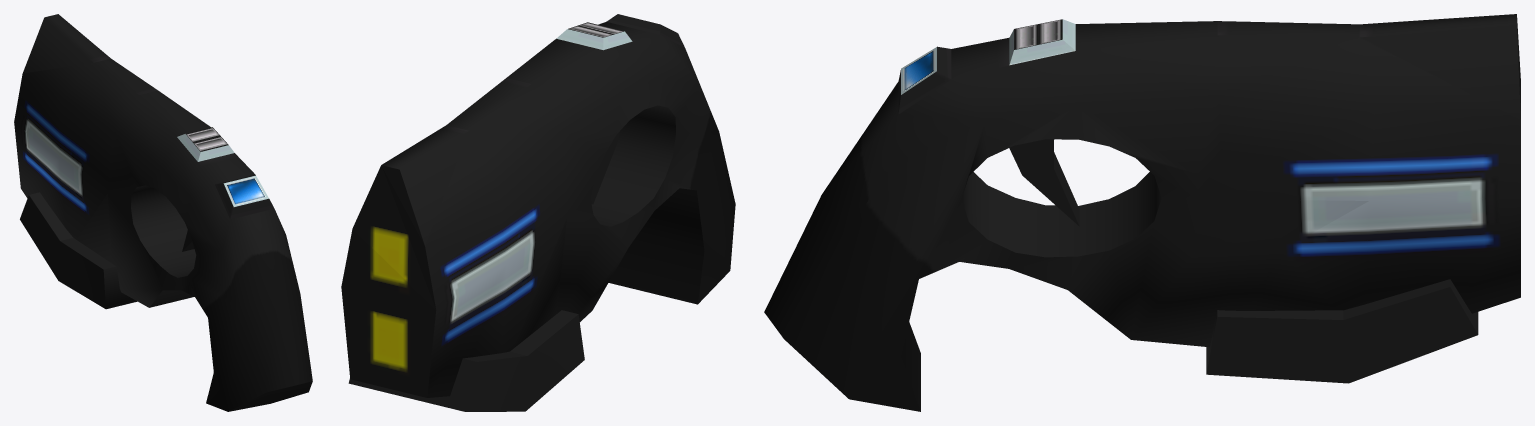
The model's file is Stinger.FBX.
3 views of the same model, side by side, from view 1: azimuth 30°, elevation 25°; view 2: azimuth 150°, elevation 25°; view 3: azimuth 270°, elevation 25° (orthographic). The views are drawn at different scales.
Visible parts, largest first — view 1: Stinger; view 2: Stinger; view 3: Stinger.
Boxes of the visible parts, x1=… form: Stinger: x1=14, y1=14, x2=312, y2=411; Stinger: x1=341, y1=14, x2=735, y2=411; Stinger: x1=764, y1=14, x2=1520, y2=411.
Bounding box in the file's own units: 3.77 × 8.93 × 16.86.
